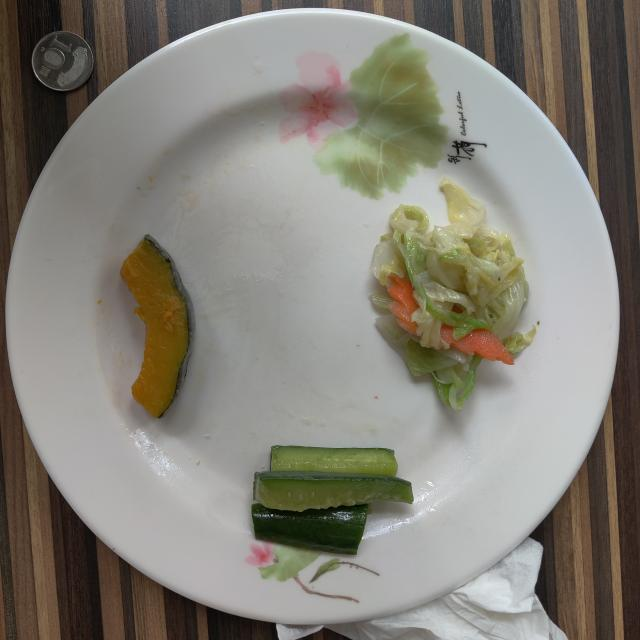cabbage: (371, 179, 532, 411)
coin: (31, 31, 94, 91)
cucumber: (251, 445, 414, 554)
pumpkin: (120, 235, 195, 418)
